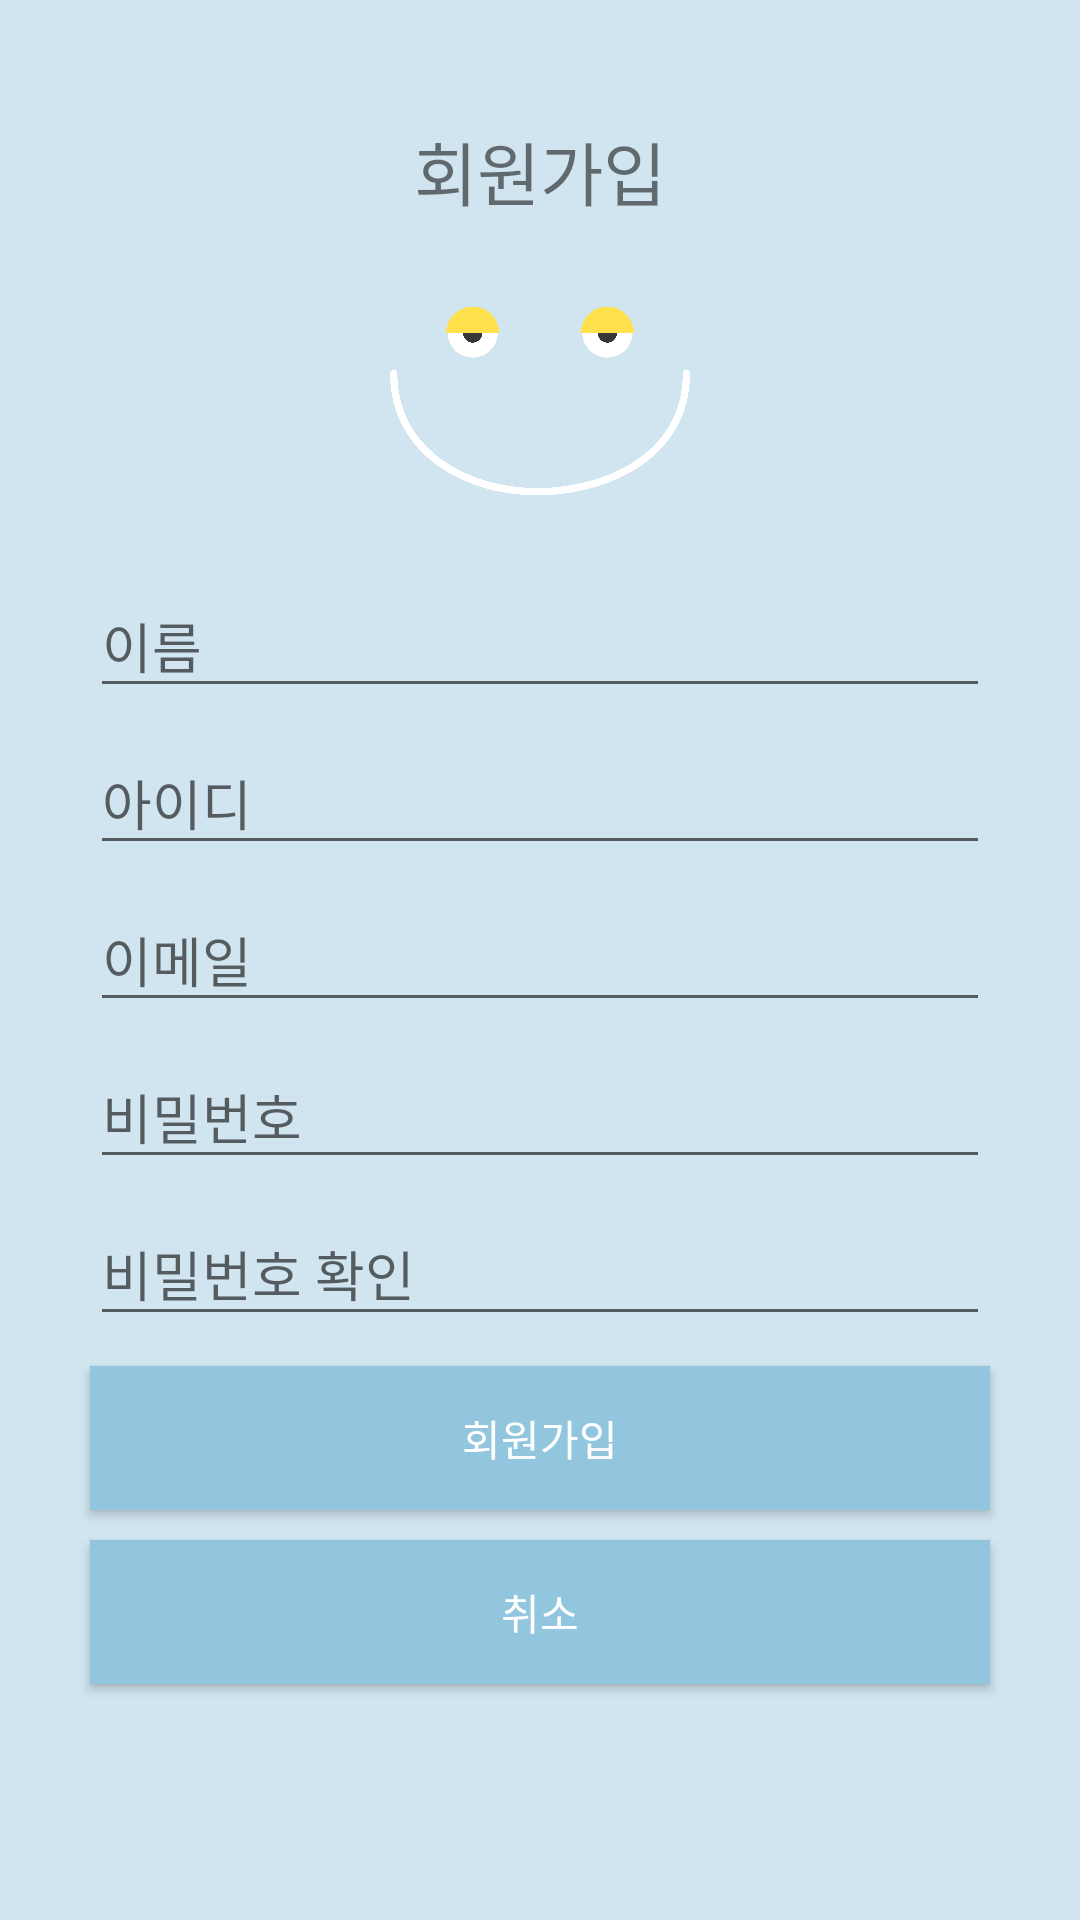

Where icons sit on this 1080x1920 app screen, as bbox=[x1, y1, x2, y2]:
face: bbox=[390, 307, 690, 495]
